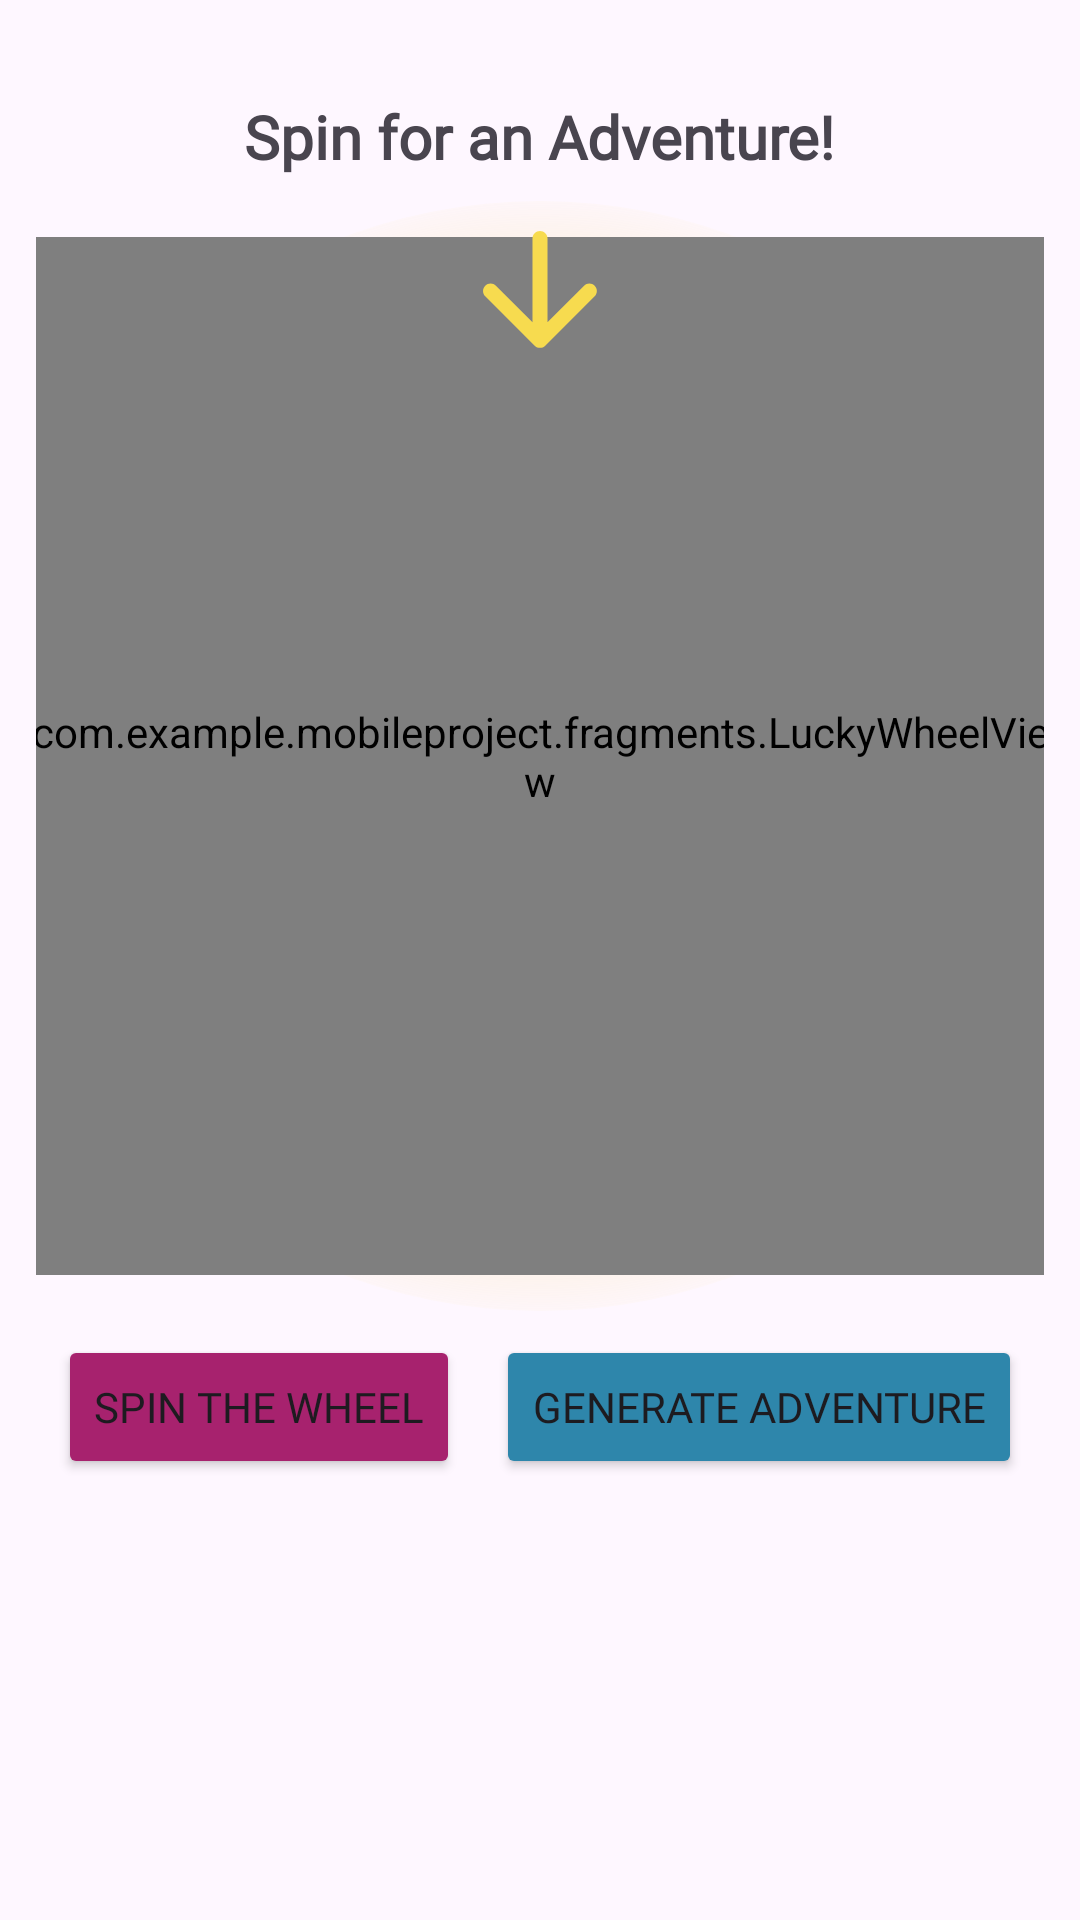

Icon bounding boxes for this 1080*1920 phone screenshot, format (x1, y1, x2, y2):
Pointer: (450, 201, 630, 348)
